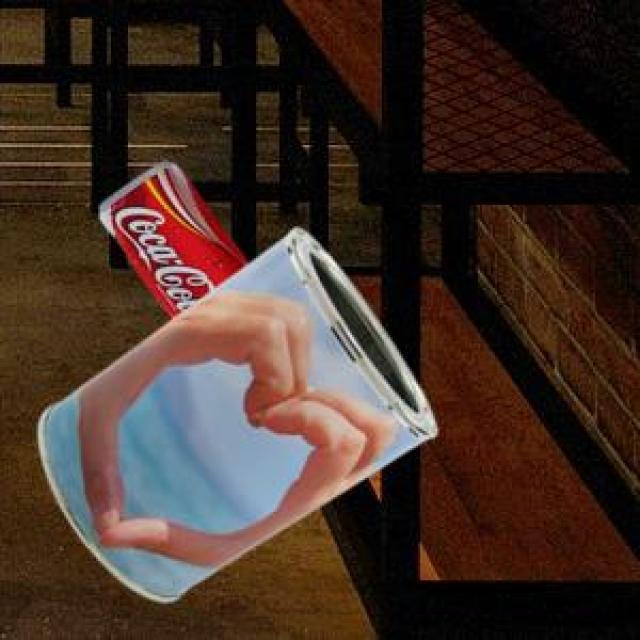Can: (97, 159, 246, 317)
